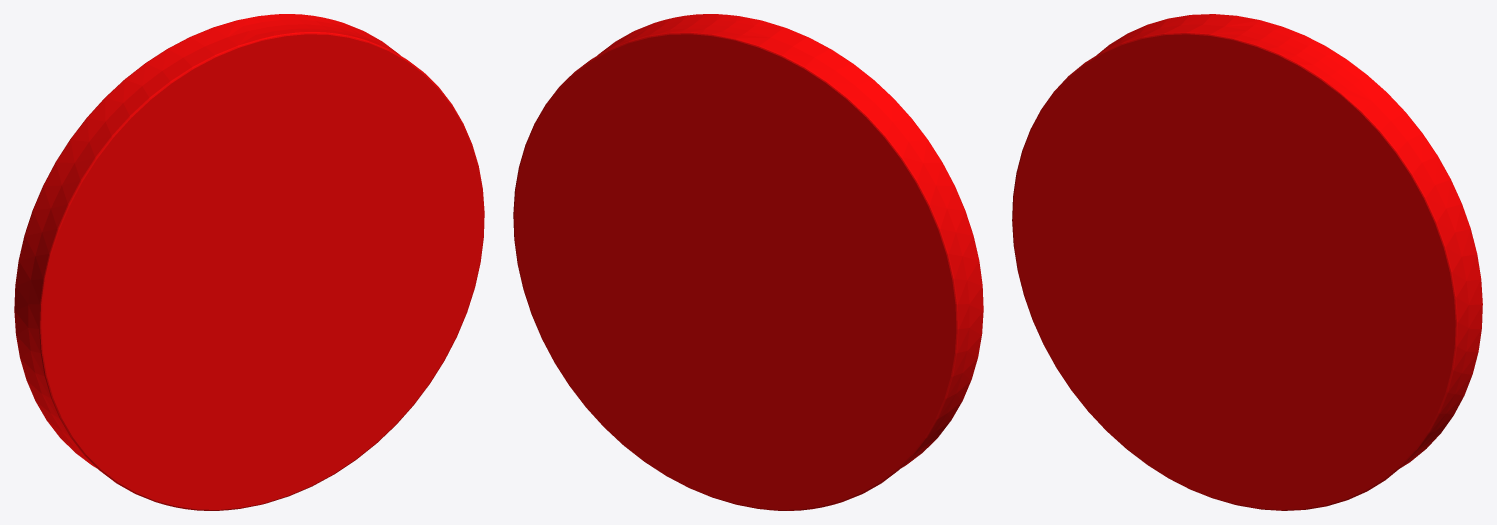
The picture shows the model from 3 angles, left to right: view 1: azimuth 30°, elevation 25°; view 2: azimuth 150°, elevation 25°; view 3: azimuth 330°, elevation 25°; orthographic projection.
Parts seen in each view (by area): view 1: A0912_1_1; view 2: A0912_1_1; view 3: A0912_1_1.
Boxes of the visible parts, <box> form: A0912_1_1: <box>14,14,484,510</box>; A0912_1_1: <box>513,14,983,510</box>; A0912_1_1: <box>1012,14,1482,510</box>.
Size of the model in its own units: 156 by 16 by 156.
